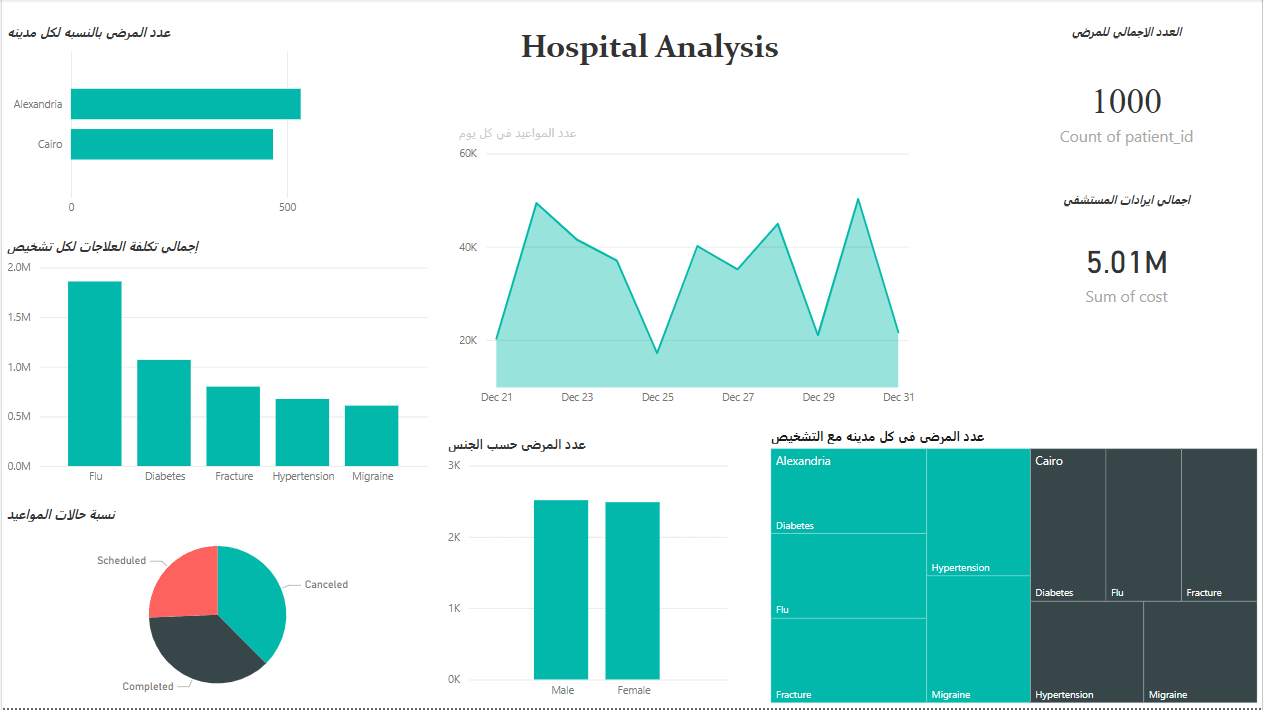

What the dashboard file says about the page in this screenshot:
{"tool":"powerbi","page":{"name":"Page 1","canvas":[1280,720],"ordinal":0},"visuals":[{"type":"barChart","title":"عدد المرضي بالنسبه لكل مدينه","fields":{"Category":["patients.city"],"Y":["CountNonNull(patients.patient_id)"]},"box":[0,24.3,347.2,205.2],"z":0},{"type":"columnChart","title":"إجمالي تكلفة العلاجات لكل تشخيص","fields":{"Category":["treatments.diagnosis"],"Y":["Sum(treatments.cost)"]},"box":[0,242.2,437.7,261.6],"z":1000},{"type":"pieChart","title":"نسبة حالات المواعيد","fields":{"Category":["appointments (2).status"],"Y":["Sum(appointments (2).appointment_id)"]},"box":[0,514,438,206],"z":2000},{"type":"card","title":"العدد الاجمالي للمرضي","fields":{"Values":["CountNonNull(patients.patient_id)"]},"box":[1004.7,24.4,275.3,160.5],"z":3000},{"type":"card","title":"اجمالي ايرادات المستشفي","fields":{"Values":["Sum(treatments.cost)"]},"box":[1004.7,195,275.3,144.3],"z":4000},{"type":"stackedAreaChart","title":"عدد المواعيد في كل يوم","fields":{"Category":["appointments (2).appointment_date"],"Y":["Sum(appointments (2).appointment_id)"]},"box":[459.2,127,473.4,295.6],"z":5000},{"type":"treemap","title":"عدد المرضي في كل مدينه مع التشخيص","fields":{"Group":["patients.city"],"Values":["CountNonNull(appointments (2).patient_id)"],"Details":["treatments.diagnosis"]},"box":[776.1,434.8,503.9,285.5],"z":6000},{"type":"lineStackedColumnComboChart","title":" عدد المرضي حسب الجنس","fields":{"Category":["patients.gender"],"Y":["CountNonNull(appointments (2).patient_id)"]},"box":[448,442.9,293.6,277.3],"z":7000},{"type":"textbox","box":[437.8,24.4,430.7,58.9],"z":7001}]}

Visuals, with their boxes in screenshot pixels (x1, y1, x2, y2), scaled from the page's 1280x720 canvas onto the 1263x710 screenshot:
"عدد المرضي بالنسبه لكل مدينه" barChart: region(0, 24, 343, 226)
"إجمالي تكلفة العلاجات لكل تشخيص" columnChart: region(0, 239, 432, 497)
"نسبة حالات المواعيد" pieChart: region(0, 507, 432, 709)
"العدد الاجمالي للمرضي" card: region(991, 24, 1262, 182)
"اجمالي ايرادات المستشفي" card: region(991, 192, 1262, 335)
"عدد المواعيد في كل يوم" stackedAreaChart: region(453, 125, 920, 417)
"عدد المرضي في كل مدينه مع التشخيص" treemap: region(766, 429, 1262, 709)
" عدد المرضي حسب الجنس" lineStackedColumnComboChart: region(442, 437, 732, 709)
textbox: region(432, 24, 857, 82)
